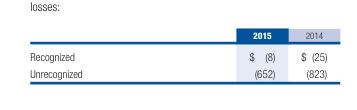table: (29, 29, 326, 79)
table column: (29, 29, 165, 79), (165, 29, 287, 79), (287, 29, 326, 79)
table column header: (29, 29, 326, 45)
table row: (29, 45, 326, 64), (29, 29, 326, 45), (29, 64, 326, 79)
